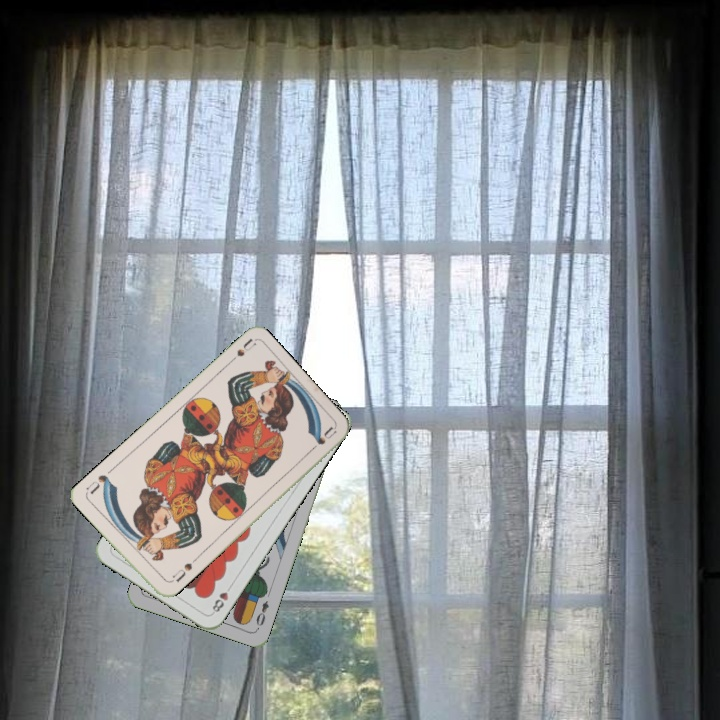EO: (252, 596, 271, 632)
H8: (208, 580, 235, 616)
SU: (222, 335, 257, 368), (168, 555, 199, 585)
